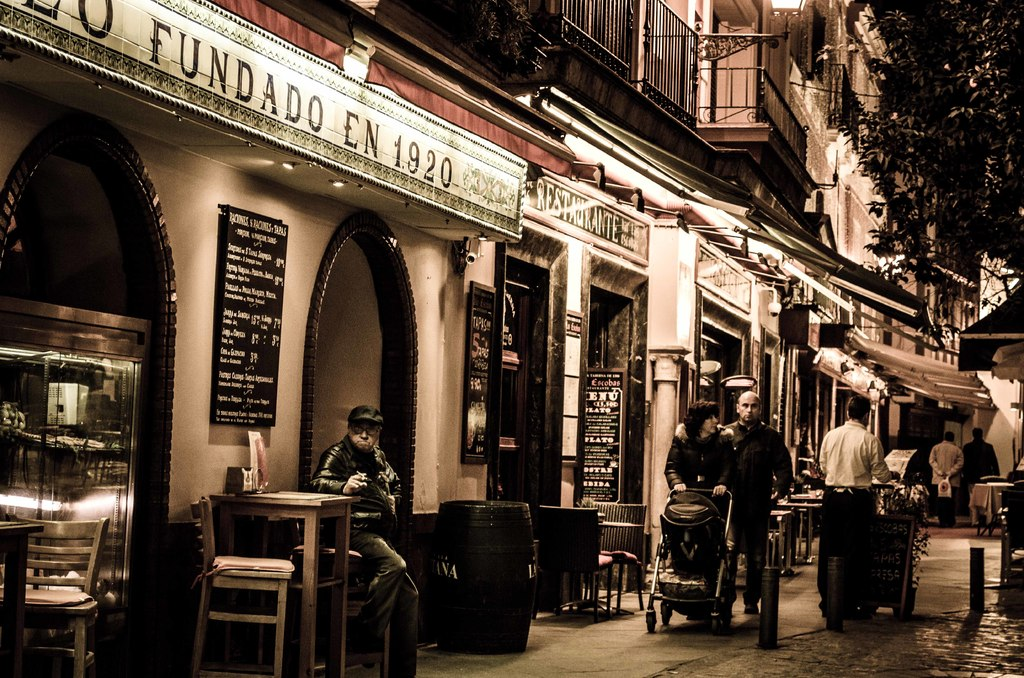Chair: (188, 490, 298, 677), (0, 510, 115, 677), (304, 488, 397, 677), (522, 494, 618, 622), (593, 490, 652, 614)
